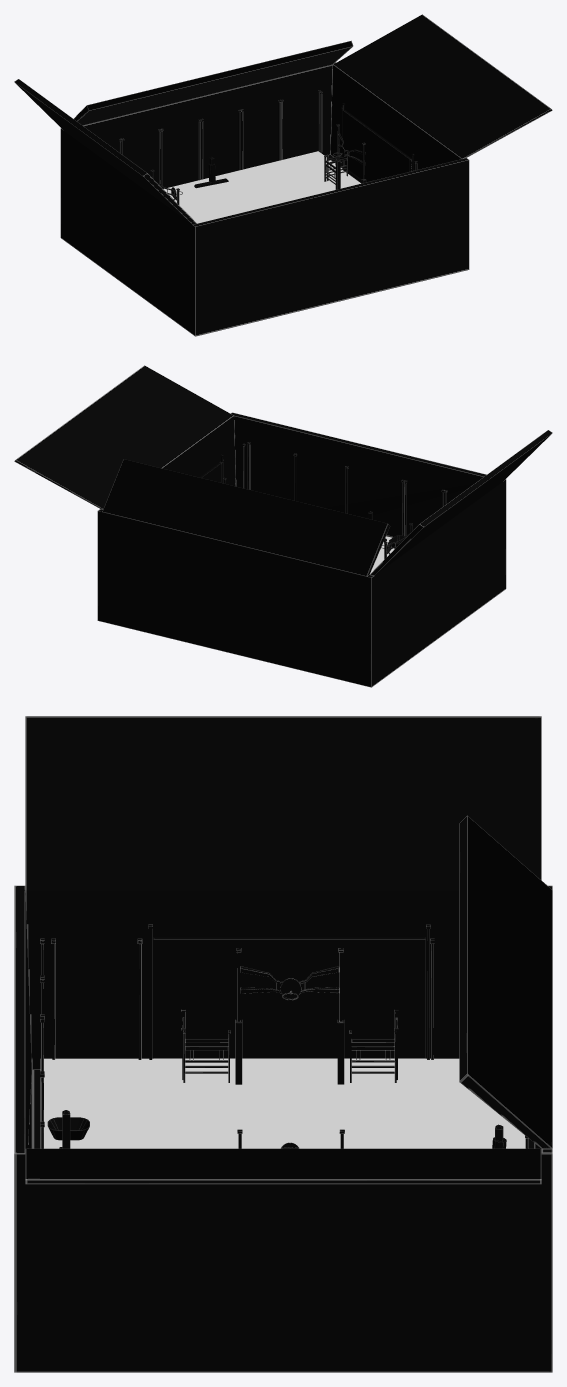
The model's file is Textured_level3.FBX.
3 views of the same model, one above another, from view 1: azimuth 30°, elevation 25°; view 2: azimuth 150°, elevation 25°; view 3: azimuth 270°, elevation 25° (orthographic). The views are drawn at different scales.
Visible parts, largest first — view 1: cartoonbox, ground, wall1, Object017, basketballnet003; view 2: cartoonbox, Object017; view 3: cartoonbox, ground, wall2, basketballnet2, Object017.
Part boxes in pixels (bbox=[...]): cartoonbox: bbox=[14, 14, 552, 336]; ground: bbox=[163, 151, 360, 223]; wall1: bbox=[342, 103, 414, 182]; Object017: bbox=[119, 90, 417, 188]; basketballnet003: bbox=[324, 124, 366, 189]; cartoonbox: bbox=[14, 365, 552, 687]; Object017: bbox=[223, 442, 447, 536]; cartoonbox: bbox=[14, 716, 552, 1372]; ground: bbox=[40, 1058, 525, 1148]; wall2: bbox=[148, 924, 430, 1059]; basketballnet2: bbox=[181, 948, 398, 1084]; Object017: bbox=[40, 938, 528, 1148].
Bounding box in the file's own units: 6.85 × 2.75 × 3.9.
Materials: 7 (7 with a texture image).
